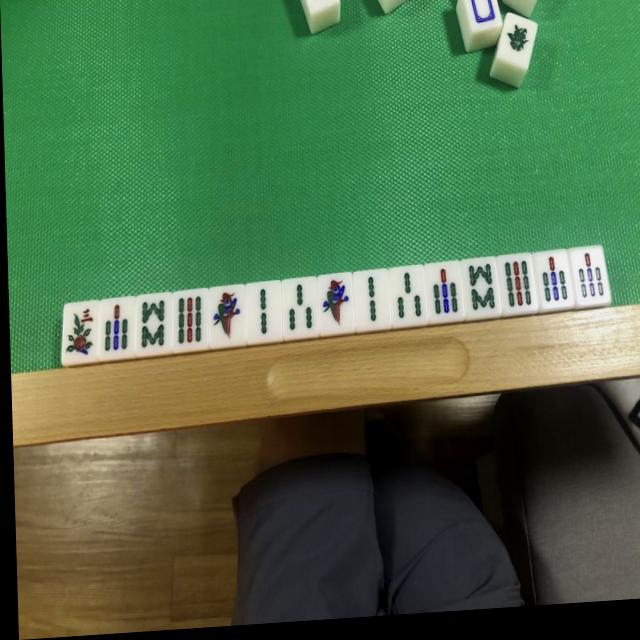ff3: (64, 302, 96, 361)
s1: (208, 288, 243, 347), (318, 275, 352, 333)
s2: (246, 283, 279, 341), (355, 272, 387, 327)
s3: (390, 269, 425, 324), (282, 280, 316, 335)
s7: (99, 298, 135, 357), (427, 264, 461, 319), (575, 249, 605, 303), (542, 252, 569, 306)
s8: (464, 259, 498, 314), (138, 295, 168, 353)
s9: (498, 255, 536, 313), (173, 291, 206, 348)
